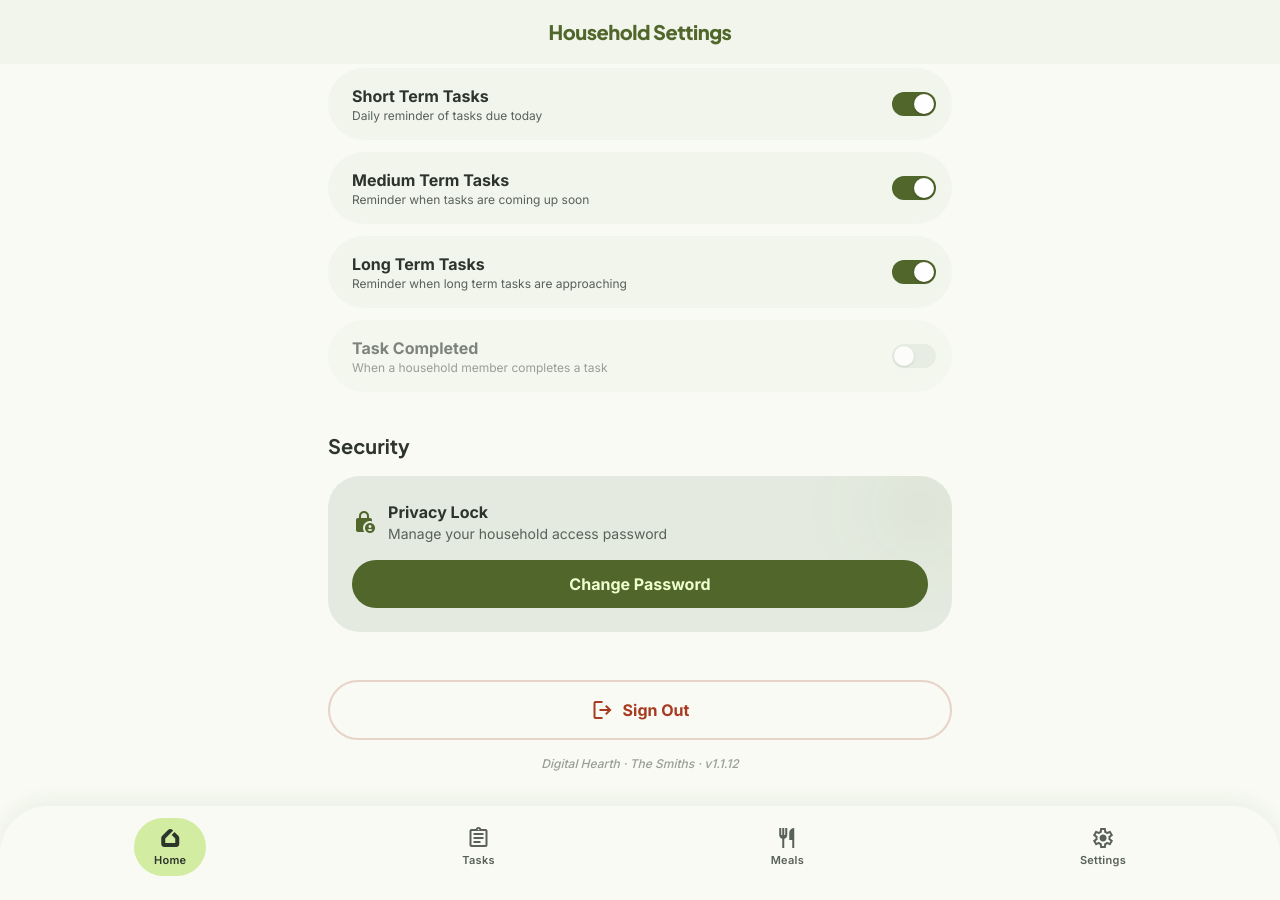
Settings › opens the Change Password modal when the button is clicked
The width and height of the screenshot is (1280, 900).
(page scrolled)
Click the button "Change Password" at (640, 584), box x1=352 y1=560 x2=928 y2=608
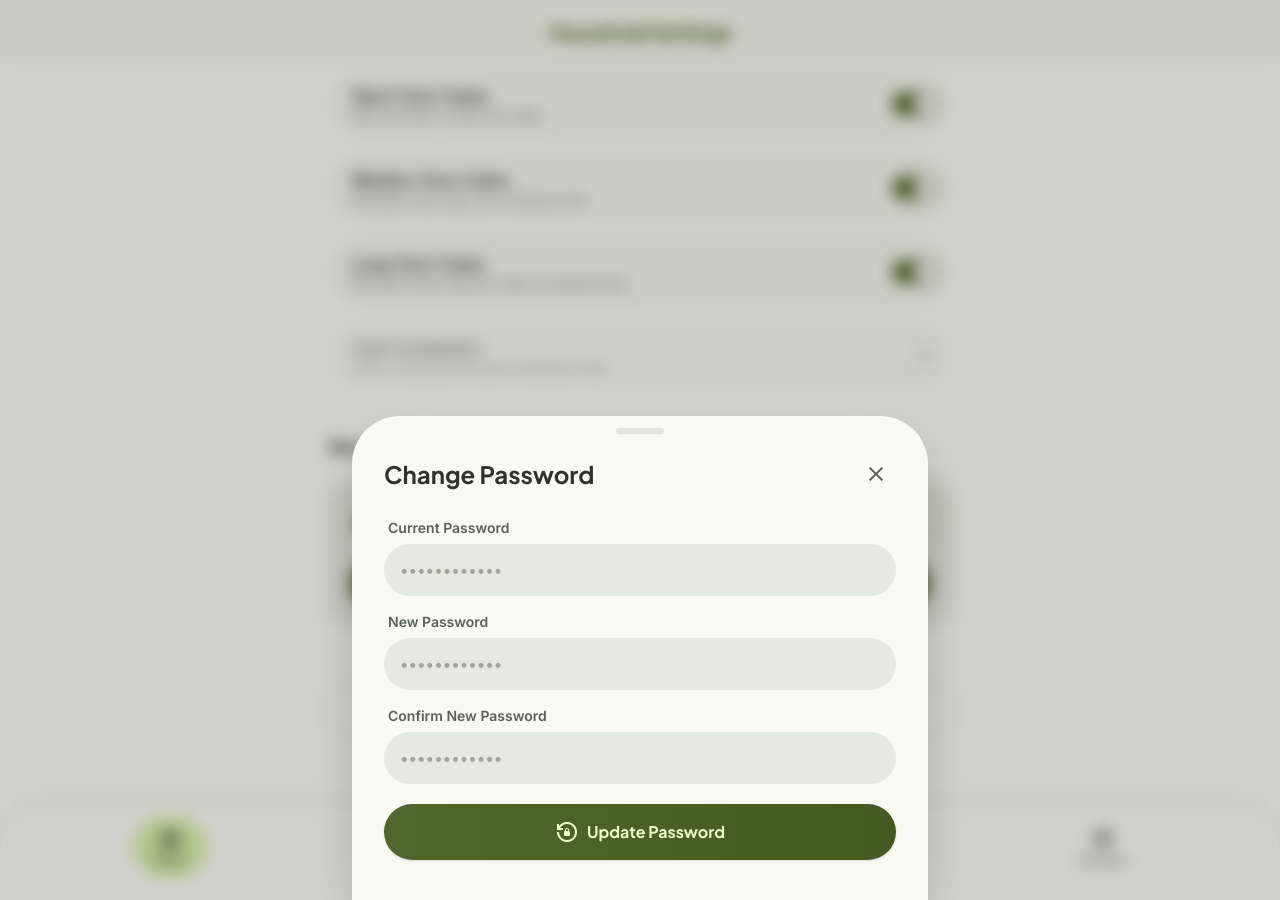
Check: the heading "Change Password" is shown, box x1=384 y1=458 x2=594 y2=490
Check: the password field labelled "Current Password" is shown, box x1=384 y1=544 x2=896 y2=596
Check: the password field labelled "New Password" is shown, box x1=384 y1=638 x2=896 y2=690
